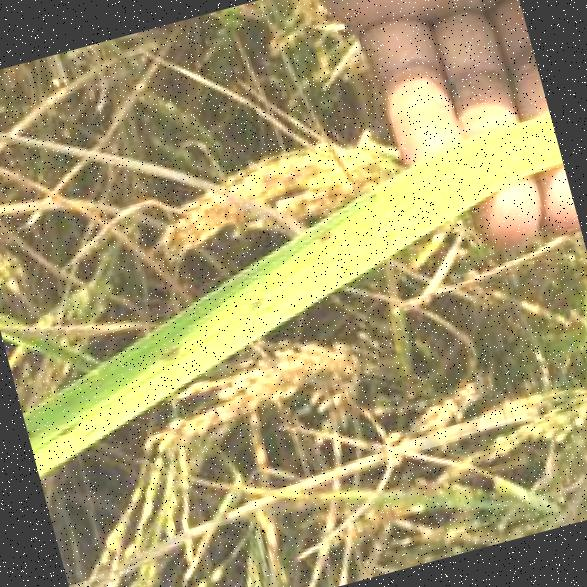Brown_Spot: (46, 410, 97, 445), (233, 278, 280, 312), (150, 336, 180, 361), (304, 224, 335, 244)
